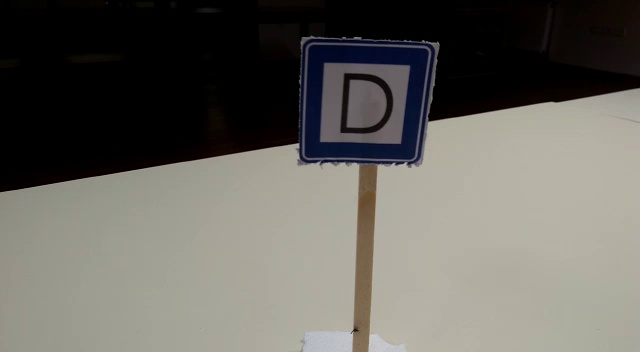durak: (296, 42, 436, 163)
